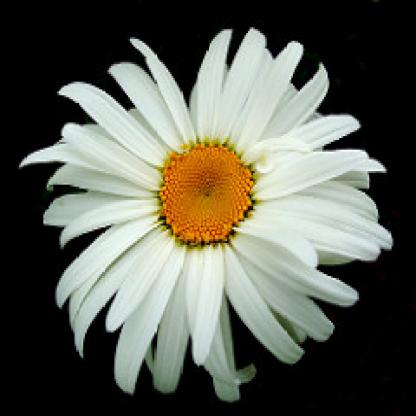ASTER: (17, 17, 410, 406)
